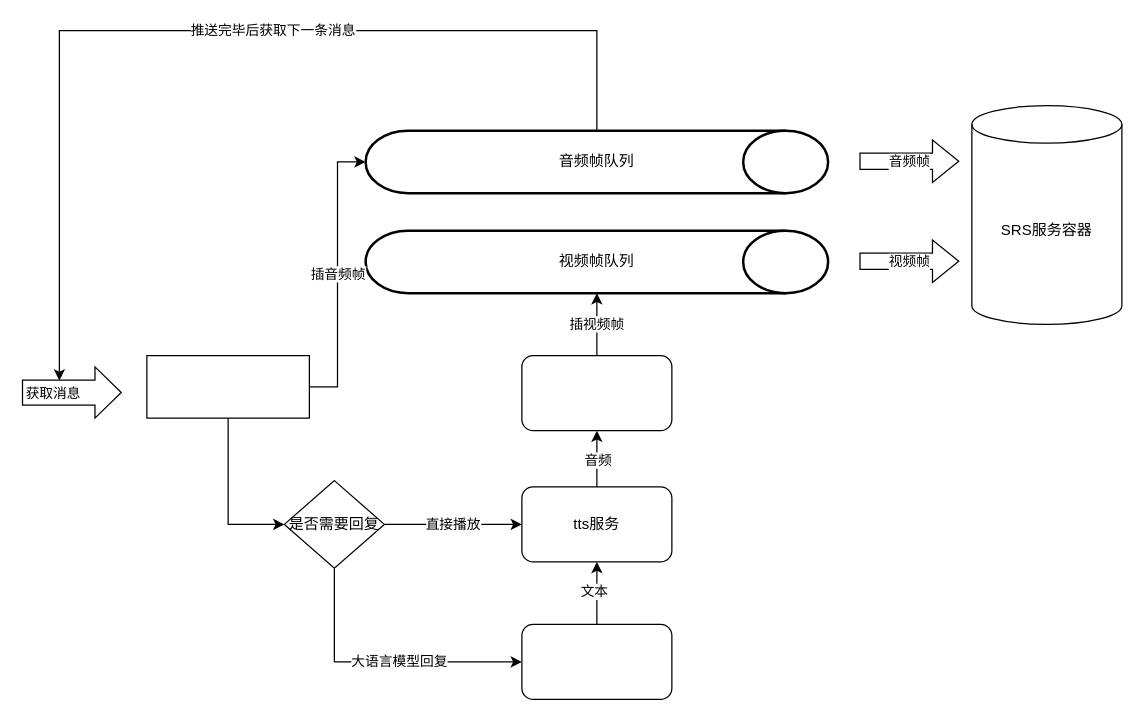
Some shapes in this 1144 by 721 pixel diagram are drawn without their labels. Here are the shapes that lost their labels. From the top down, the box of each, then its label:
(146, 354, 309, 418): 播放任务队列
(521, 354, 672, 431): musetalk
(521, 623, 672, 699): llm服务
